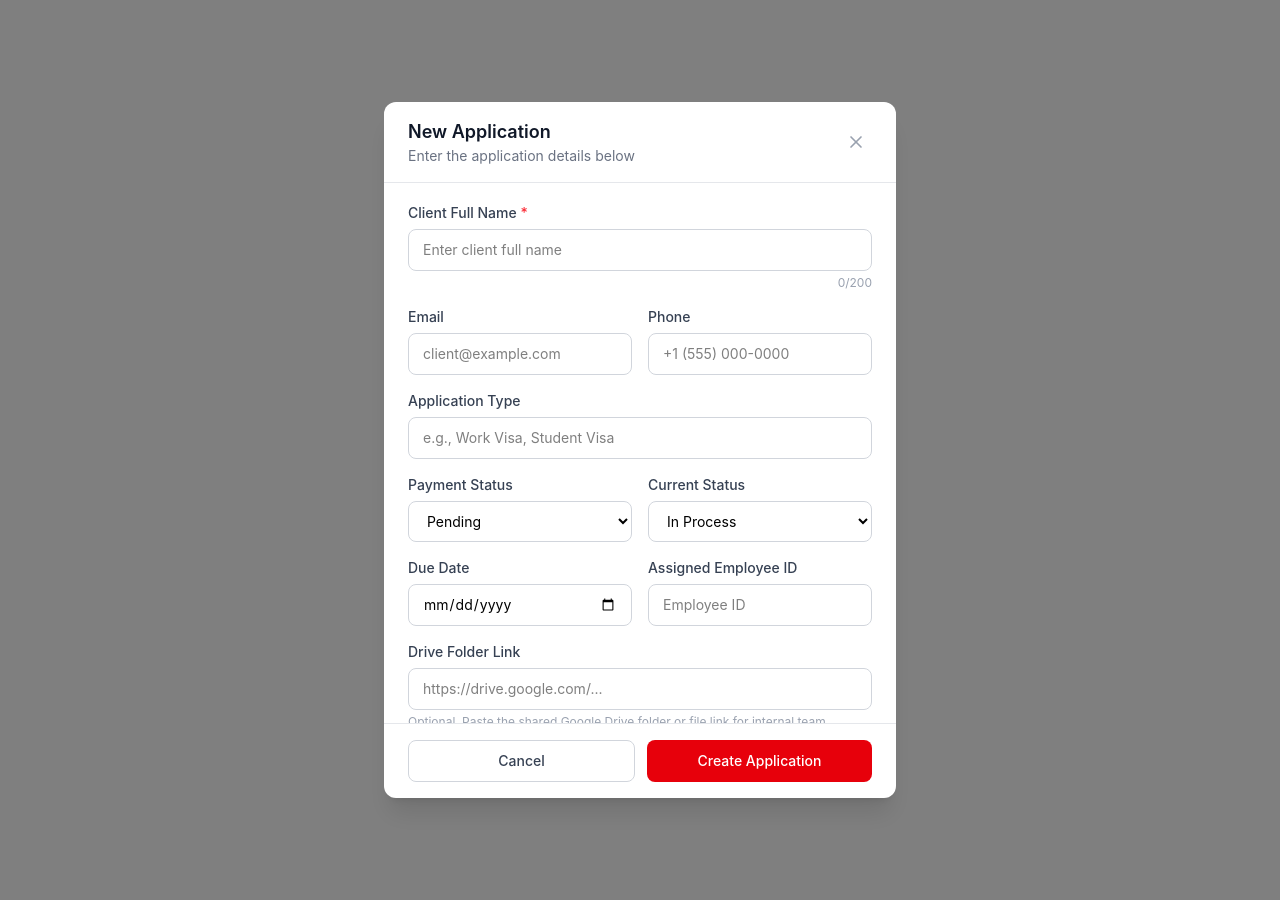
AddApplicationModal Component › Validation › should show error for invalid email
Type "John Doe" into the field labelled "Client Full Name *" at (640, 250), box 408,229 -> 872,271
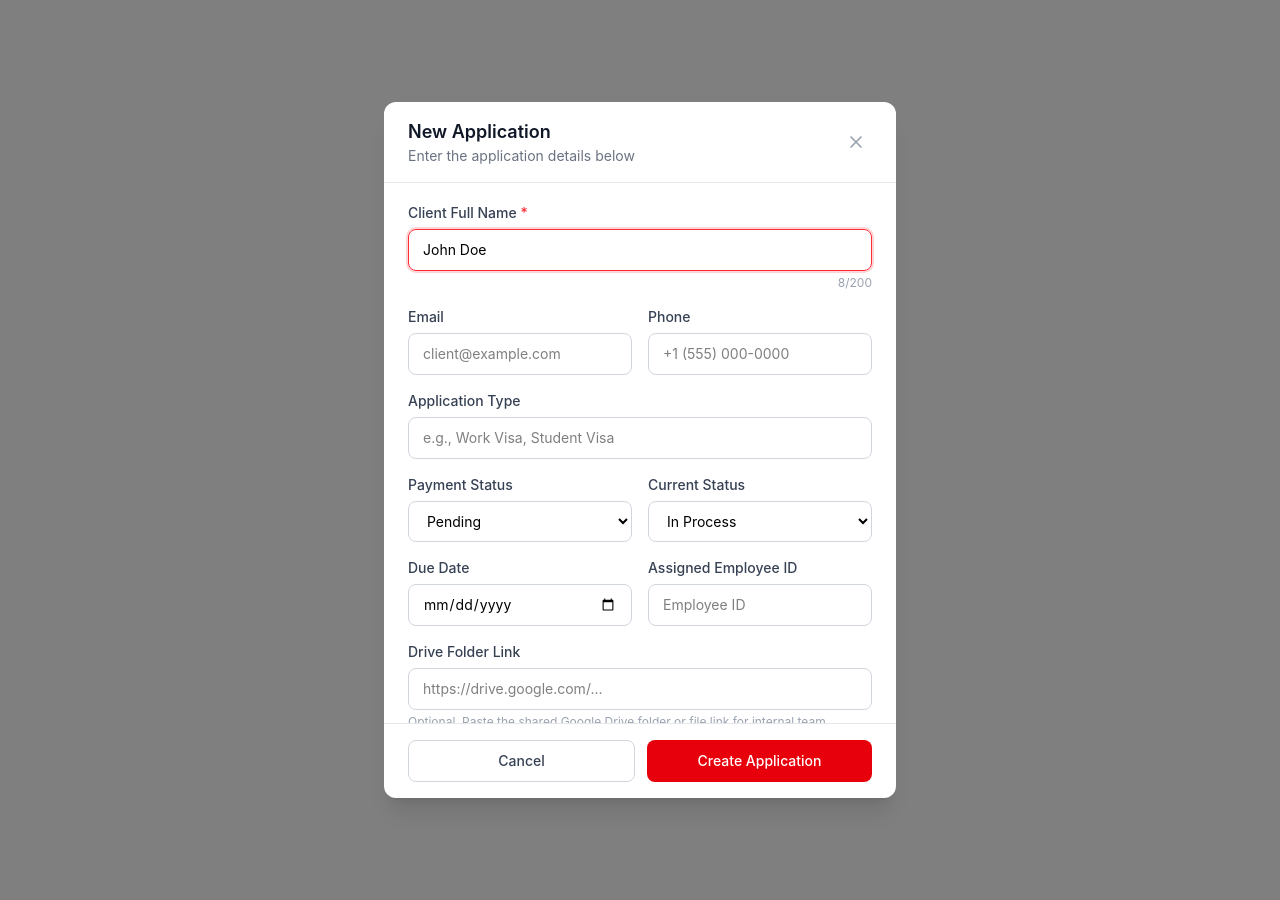
Type "bad-email" into the field labelled "Email" at (520, 354), box 408,333 -> 632,375
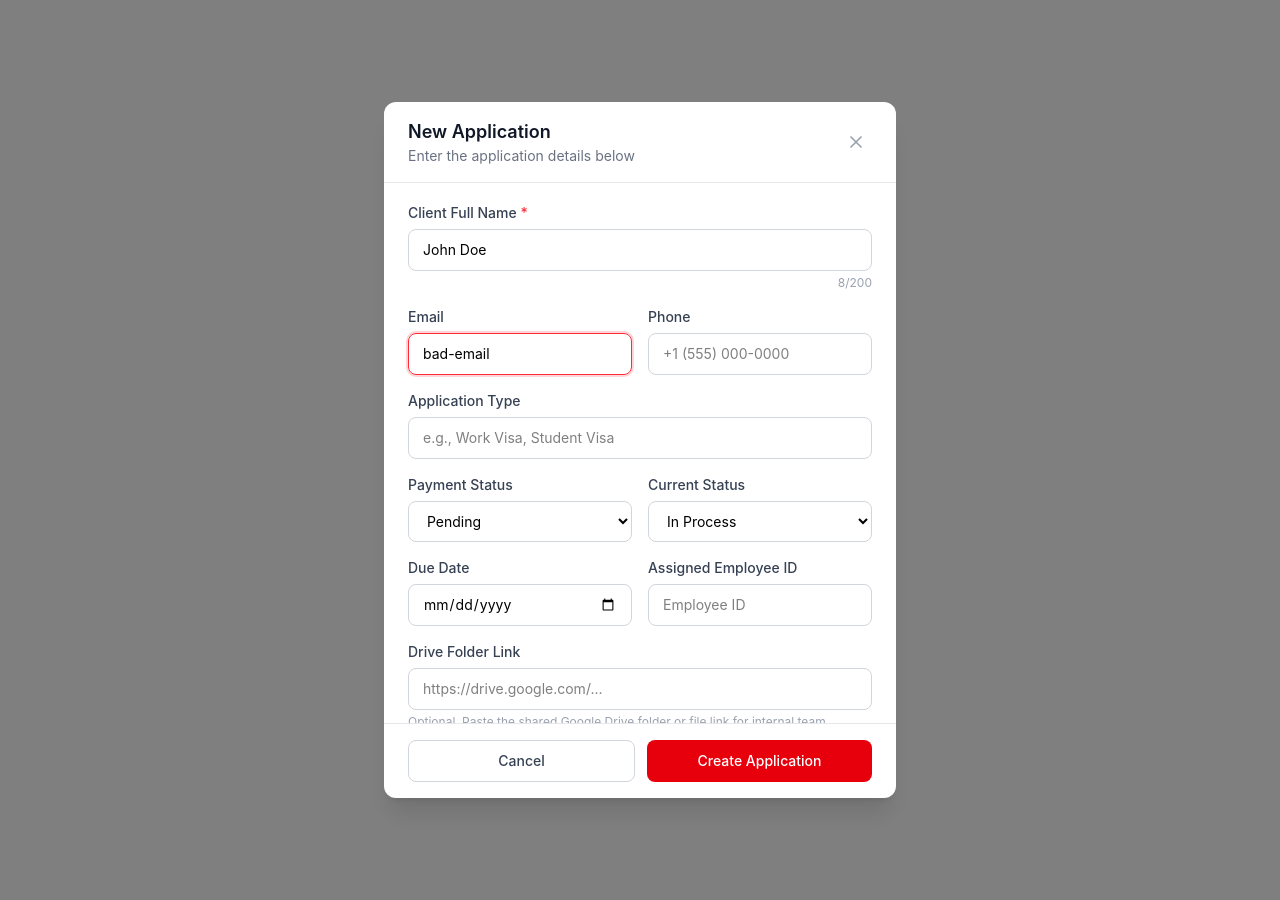
Click the button "Create Application" at (760, 761), box 647,740 -> 872,782
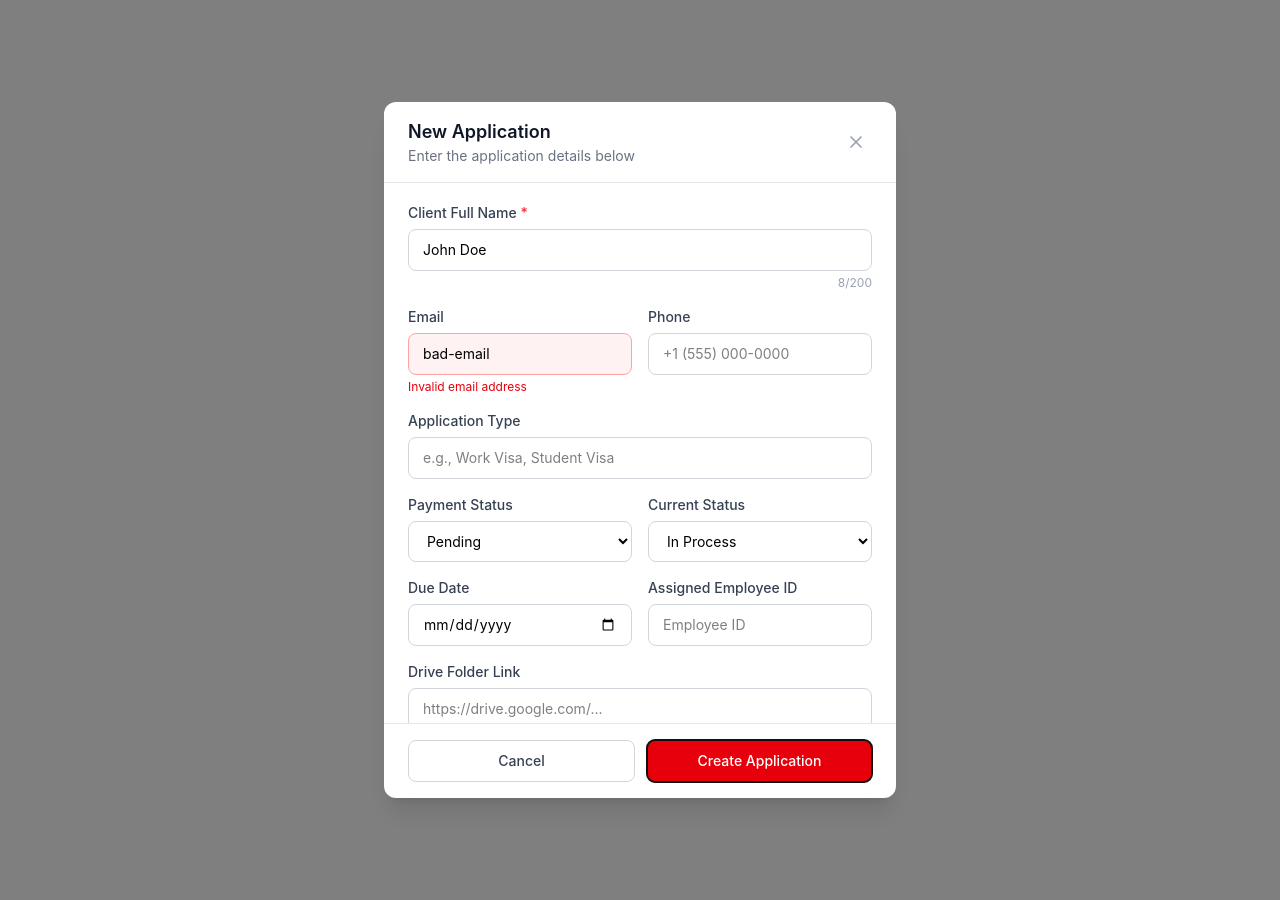
Check: the text "Invalid email address" is shown, box 408,379 -> 527,394
